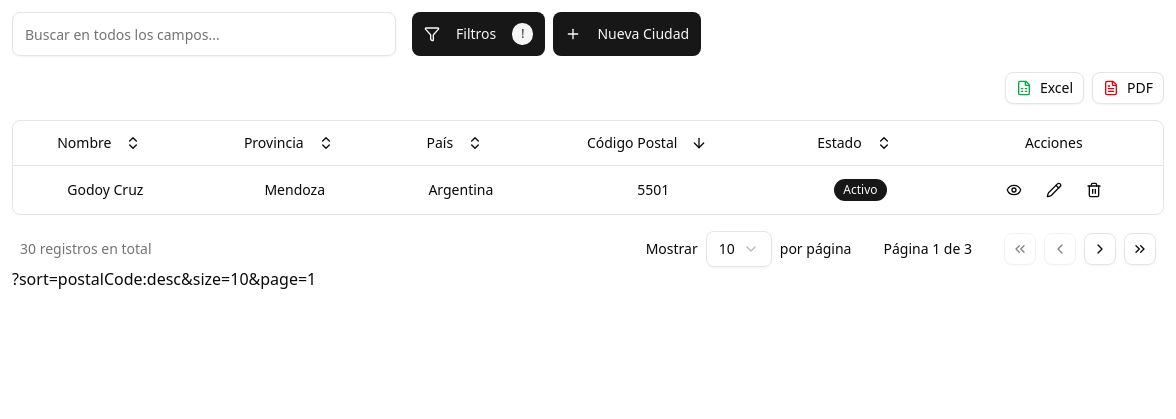
Test: CitiesTable sorting › retains the active sort across page and page-size changes
Click the 6th button named "Ir a la página siguiente" at {"x": 1100, "y": 249}, box x1=1084 y1=233 x2=1116 y2=265
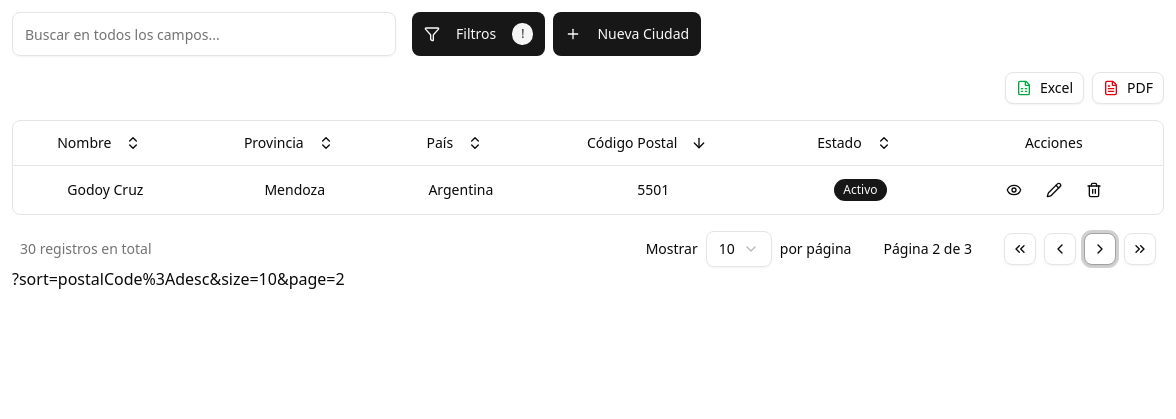
Expected: the text with test id "search" shows "sort=postalCode%3Adesc", x1=12 y1=268 x2=345 y2=290
Expected: the text with test id "search" shows "page=2", x1=12 y1=268 x2=345 y2=290
Click the dropdown at {"x": 739, "y": 249}, box x1=706 y1=231 x2=772 y2=267
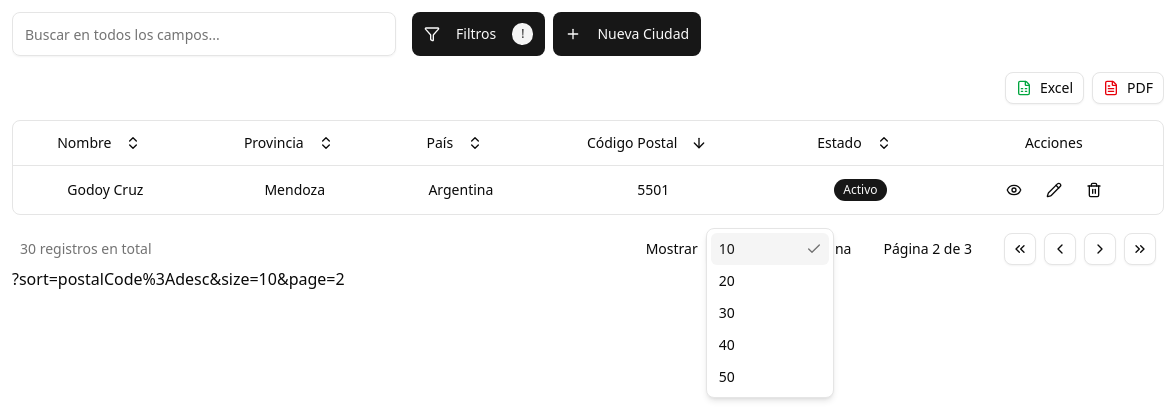
Click the option "20" at {"x": 727, "y": 280}, box x1=719 y1=271 x2=735 y2=290
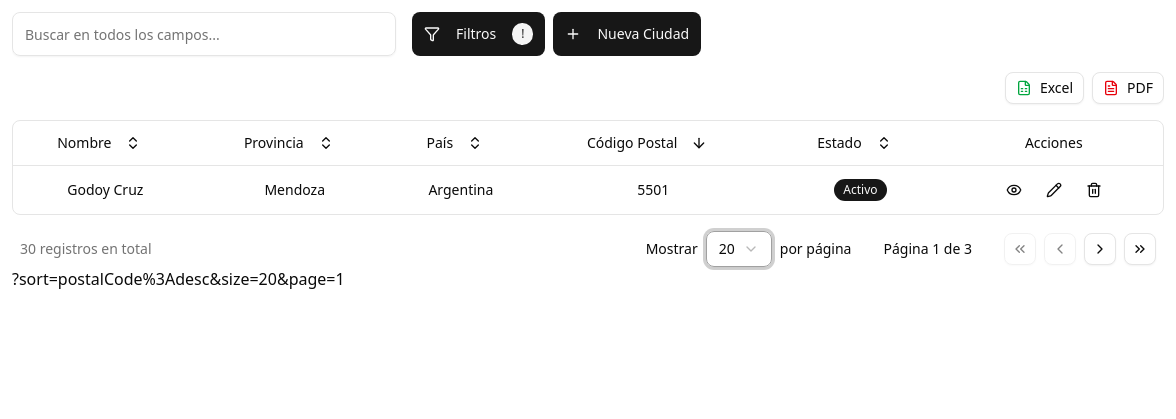
Expected: the text with test id "search" shows "sort=postalCode%3Adesc", x1=12 y1=268 x2=345 y2=290
Expected: the text with test id "search" shows "size=20", x1=12 y1=268 x2=345 y2=290
